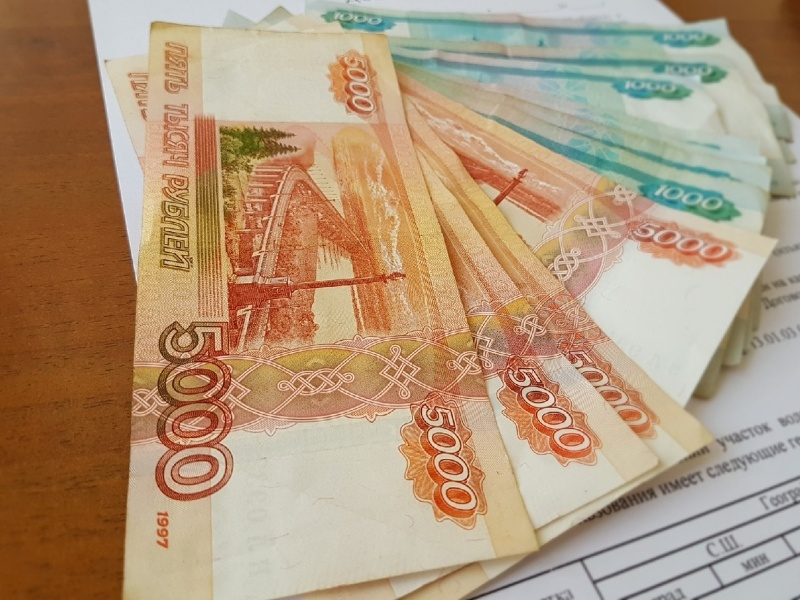cash: (108, 4, 783, 600)
